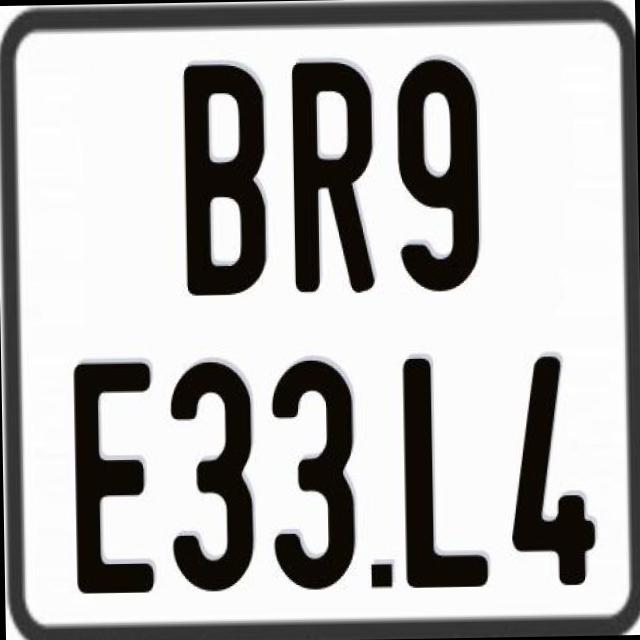3: (270, 358, 358, 592), (167, 358, 251, 592)
4: (507, 350, 598, 582)
9: (394, 54, 481, 292)
B: (182, 60, 269, 292)
E: (68, 360, 156, 593)
L: (401, 352, 488, 586)
